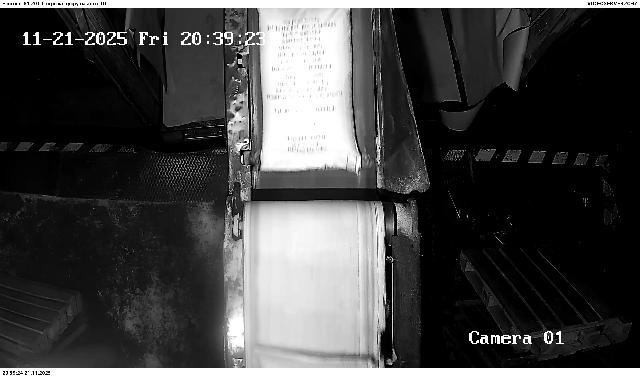bag: (260, 9, 360, 174), (256, 347, 376, 368)
